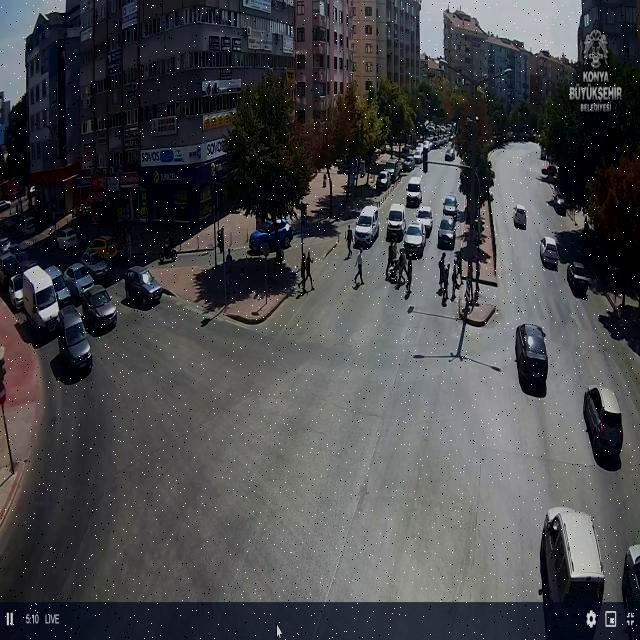Car: (539, 506, 605, 636), (584, 386, 624, 462), (57, 308, 92, 375), (514, 322, 550, 383), (80, 286, 118, 331), (621, 542, 640, 628), (249, 218, 293, 255), (125, 266, 163, 307), (43, 264, 72, 306), (62, 262, 95, 297), (79, 252, 113, 281), (87, 235, 122, 261), (403, 222, 426, 258), (567, 263, 590, 297), (5, 273, 25, 310), (437, 216, 458, 250), (539, 236, 559, 269), (55, 227, 81, 251), (1, 252, 20, 280), (416, 205, 433, 236), (384, 160, 401, 182), (442, 194, 458, 216), (513, 205, 527, 228), (376, 170, 392, 190), (402, 155, 416, 172), (413, 148, 425, 164), (401, 146, 414, 159), (445, 146, 455, 161), (431, 138, 443, 150), (422, 140, 432, 151), (448, 134, 454, 144), (417, 138, 424, 146)
Van: (22, 268, 60, 336), (355, 205, 380, 246), (386, 204, 406, 240), (406, 178, 422, 204)
